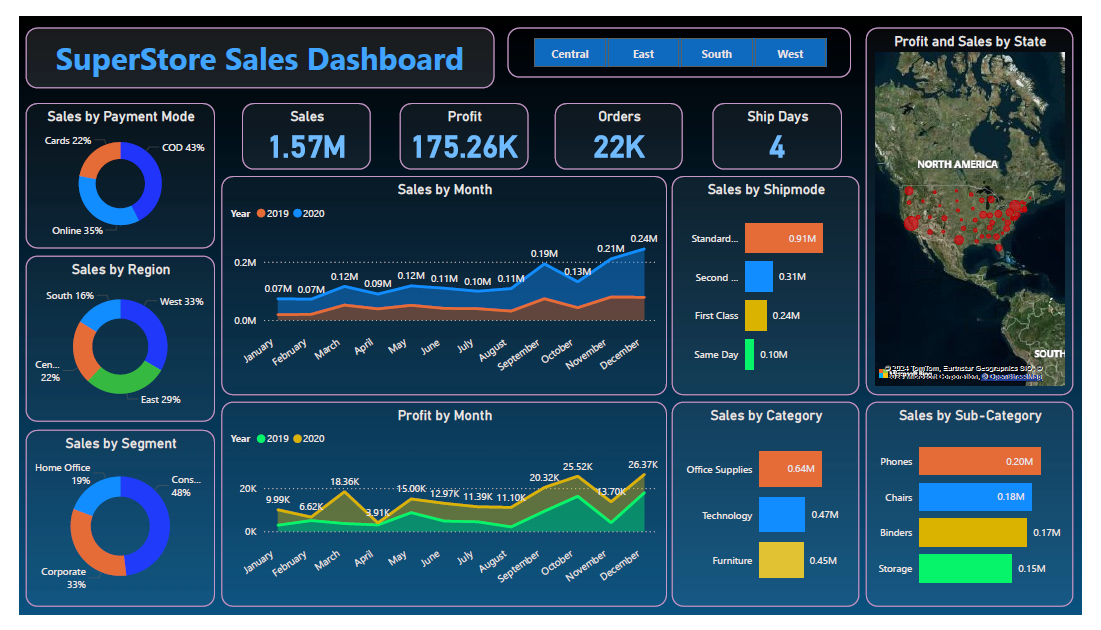

The page's visual inventory and layout, read from the dashboard file:
{"tool":"powerbi","page":{"name":"Dashboard","canvas":[1280,720],"ordinal":0},"visuals":[{"type":"barChart","title":"Sales by Category","fields":{"Category":["Sheet1.Category"],"Y":["Sum(Sheet1.Sales)"]},"box":[786.2,463.7,226.1,247.7],"z":0},{"type":"barChart","title":"Sales by Shipmode","fields":{"Category":["Sheet1.Ship Mode"],"Y":["Sum(Sheet1.Sales)"]},"box":[786.2,191.5,226.1,265],"z":1000},{"type":"barChart","title":"Sales by Sub-Category","fields":{"Y":["Sum(Sheet1.Sales)"],"Category":["Sheet1.Sub-Category"]},"box":[1019.5,463.7,250.6,247.7],"z":2000},{"type":"stackedAreaChart","title":"Sales by Month","fields":{"Category":["Sheet1.Order Date.Variation.Date Hierarchy.Month"],"Y":["Sum(Sheet1.Sales)"],"Series":["Sheet1.Order Date.Variation.Date Hierarchy.Year"]},"box":[243.4,191.5,537.1,265],"z":3000},{"type":"stackedAreaChart","title":"Profit by Month","fields":{"Category":["Sheet1.Order Date.Variation.Date Hierarchy.Month"],"Y":["Sum(Sheet1.Profit)"],"Series":["Sheet1.Order Date.Variation.Date Hierarchy.Year"]},"box":[243.4,463.7,537.1,247.7],"z":4000},{"type":"azureMap","title":"Profit and Sales by State","fields":{"Category":["Sheet1.State"],"Size":["Sum(Sheet1.Sales)"]},"box":[1019.5,13,250.6,443.5],"z":5000},{"type":"donutChart","title":"Sales by Segment","fields":{"Category":["Sheet1.Segment"],"Y":["Sum(Sheet1.Sales)"]},"box":[7.2,498.2,227.5,213.1],"z":6000},{"type":"donutChart","title":"Sales by Region","fields":{"Category":["Sheet1.Region"],"Y":["Sum(Sheet1.Sales)"]},"box":[7.2,288,227.5,200.2],"z":7000},{"type":"donutChart","title":"Sales by Payment Mode","fields":{"Category":["Sheet1.Payment Mode"],"Y":["Sum(Sheet1.Sales)"]},"box":[7.2,103.7,227.5,175.7],"z":8000},{"type":"slicer","fields":{"Values":["Sheet1.Region"]},"box":[587.5,13,414.7,60.5],"z":9000},{"type":"textbox","box":[7.2,13,564.5,73.4],"z":10000},{"type":"card","title":"Sales","fields":{"Values":["Sum(Sheet1.Sales)"]},"box":[267.8,103.7,155.5,80.6],"z":11000},{"type":"card","title":"Profit","fields":{"Values":["Sum(Sheet1.Profit)"]},"box":[457.9,103.7,155.5,80.6],"z":12000},{"type":"card","title":"Orders","fields":{"Values":["Sum(Sheet1.Quantity)"]},"box":[645.1,103.7,154.1,80.6],"z":13000},{"type":"card","title":"Ship Days","fields":{"Values":["Avg(Sheet1.AvgDalivery)"]},"box":[835.2,103.7,155.5,80.6],"z":14000}]}

Visuals, with their boxes in screenshot pixels (x1, y1, x2, y2), scaled from the page's 1280x720 canvas onto the 1101x630 screenshot:
"Sales by Category" barChart: 676 406 871 622
"Sales by Shipmode" barChart: 676 168 871 399
"Sales by Sub-Category" barChart: 877 406 1092 622
"Sales by Month" stackedAreaChart: 209 168 671 399
"Profit by Month" stackedAreaChart: 209 406 671 622
"Profit and Sales by State" azureMap: 877 11 1092 399
"Sales by Segment" donutChart: 6 436 202 622
"Sales by Region" donutChart: 6 252 202 427
"Sales by Payment Mode" donutChart: 6 91 202 244
slicer - Sheet1.Region: 505 11 862 64
textbox: 6 11 492 76
"Sales" card: 230 91 364 161
"Profit" card: 394 91 528 161
"Orders" card: 555 91 687 161
"Ship Days" card: 718 91 852 161
